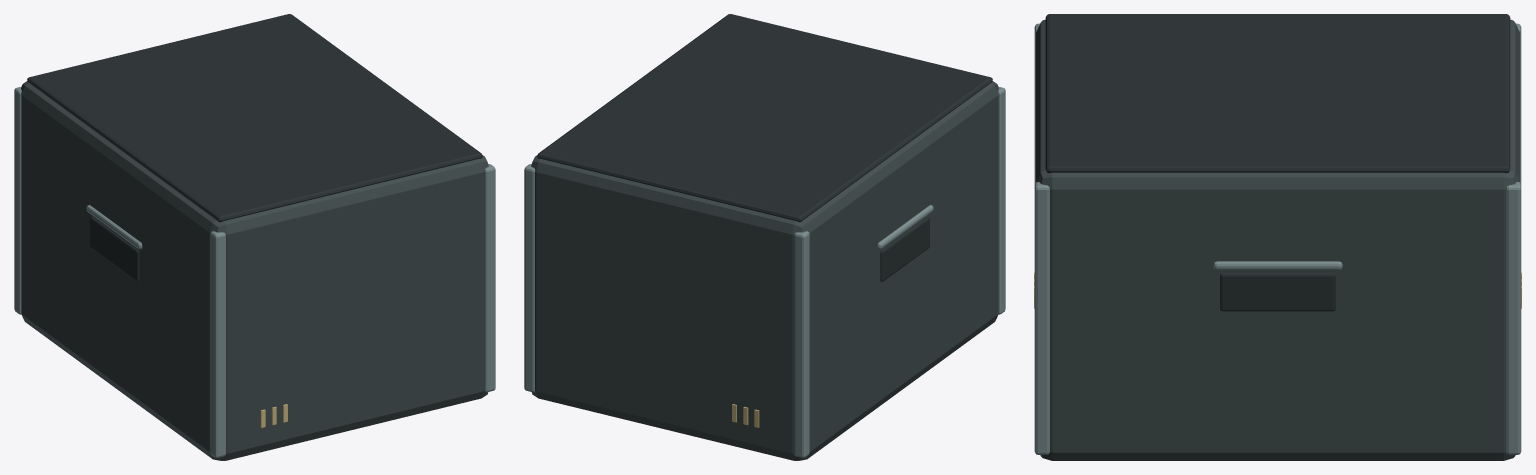
The model's file is plyo-box.v1.glb.
3 views of the same model, side by side, from view 1: azimuth 30°, elevation 25°; view 2: azimuth 150°, elevation 25°; view 3: azimuth 270°, elevation 25° (orthographic). The views are drawn at different scales.
Parts seen in each view (by area): view 1: Box core, Non-slip top, Carry grip rim; view 2: Box core, Non-slip top, Carry grip rim; view 3: Box core, Non-slip top, Carry grip rim.
Part boxes in pixels (box(x1,y1,x2,y2)): Box core: box(21, 81, 488, 460); Non-slip top: box(27, 14, 482, 281); Carry grip rim: box(14, 86, 495, 457); Box core: box(531, 81, 998, 460); Non-slip top: box(537, 14, 992, 281); Carry grip rim: box(524, 86, 1005, 457); Box core: box(1036, 19, 1519, 460); Non-slip top: box(1045, 14, 1510, 311); Carry grip rim: box(1034, 23, 1521, 454).
Bounding box in the file's own units: 0.614 × 0.505 × 0.756.
